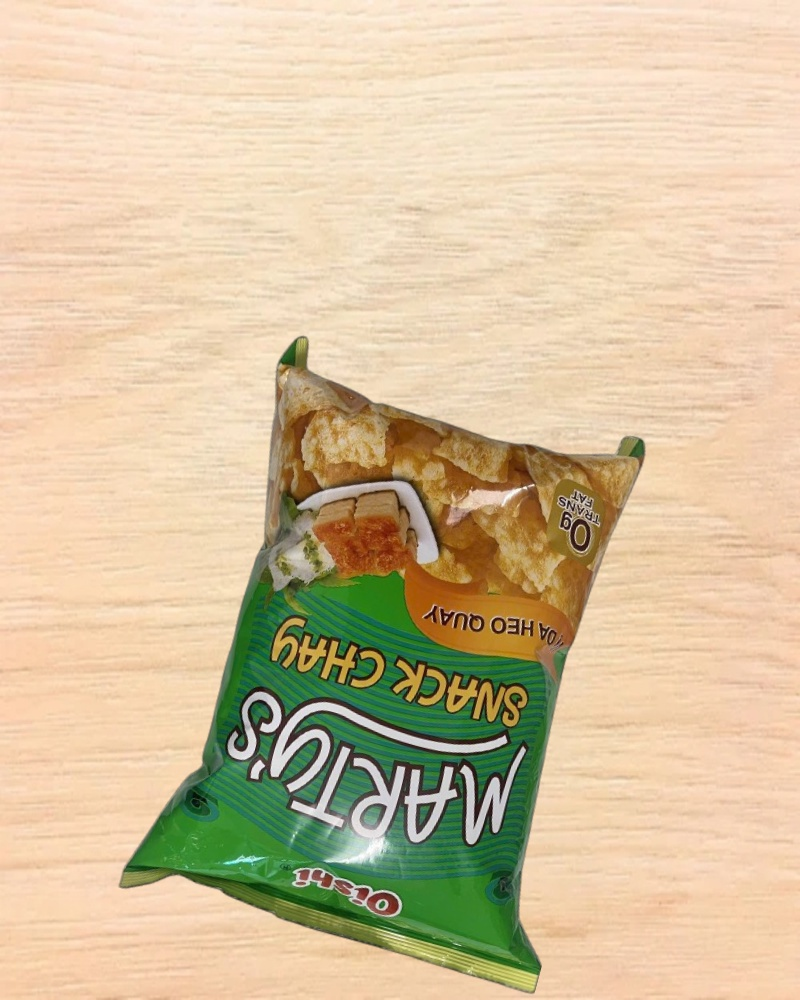Snack chay: (139, 335, 681, 998)
